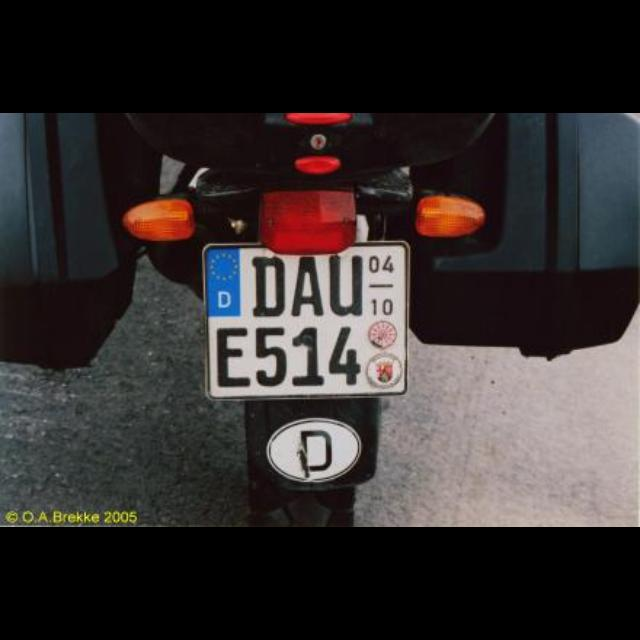d_license_plate: (202, 242, 406, 398)
